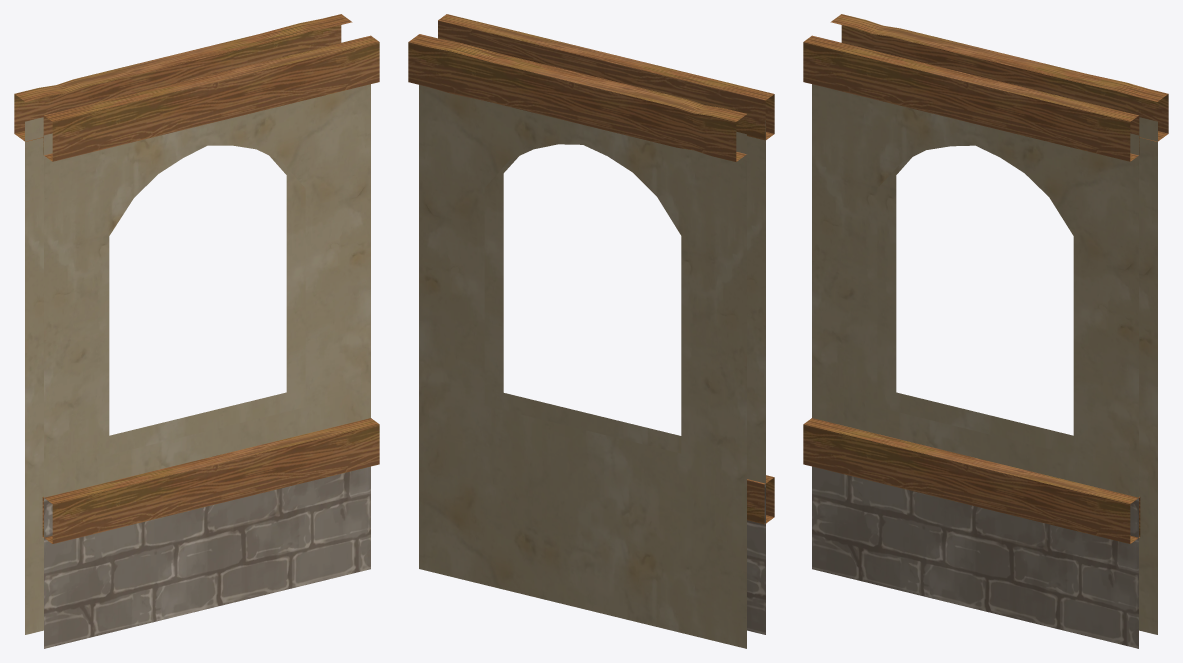
Rendered from Wall_Plaster_Window_Wide_Round.glb.
3 views of the same model, side by side, from view 1: azimuth 30°, elevation 25°; view 2: azimuth 150°, elevation 25°; view 3: azimuth 330°, elevation 25° (orthographic).
Parts seen in each view (by area): view 1: Wall_Plaster_Window_Wide_Round; view 2: Wall_Plaster_Window_Wide_Round; view 3: Wall_Plaster_Window_Wide_Round.
Boxes of the visible parts, bbox=[...] form: Wall_Plaster_Window_Wide_Round: bbox=[14, 14, 379, 648]; Wall_Plaster_Window_Wide_Round: bbox=[408, 14, 774, 648]; Wall_Plaster_Window_Wide_Round: bbox=[803, 14, 1168, 648].
Size of the model in its own units: 2 by 3.12 by 0.4064.
Materials: 3 (3 with a texture image).
